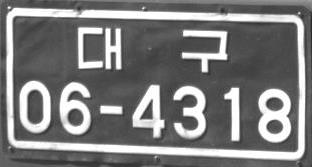0: (18, 79, 51, 133)
1: (220, 86, 249, 142)
3: (173, 84, 206, 140)
4: (132, 83, 165, 138)
6: (59, 81, 92, 137)
8: (257, 86, 291, 144)
대구_D: (77, 27, 230, 73)
